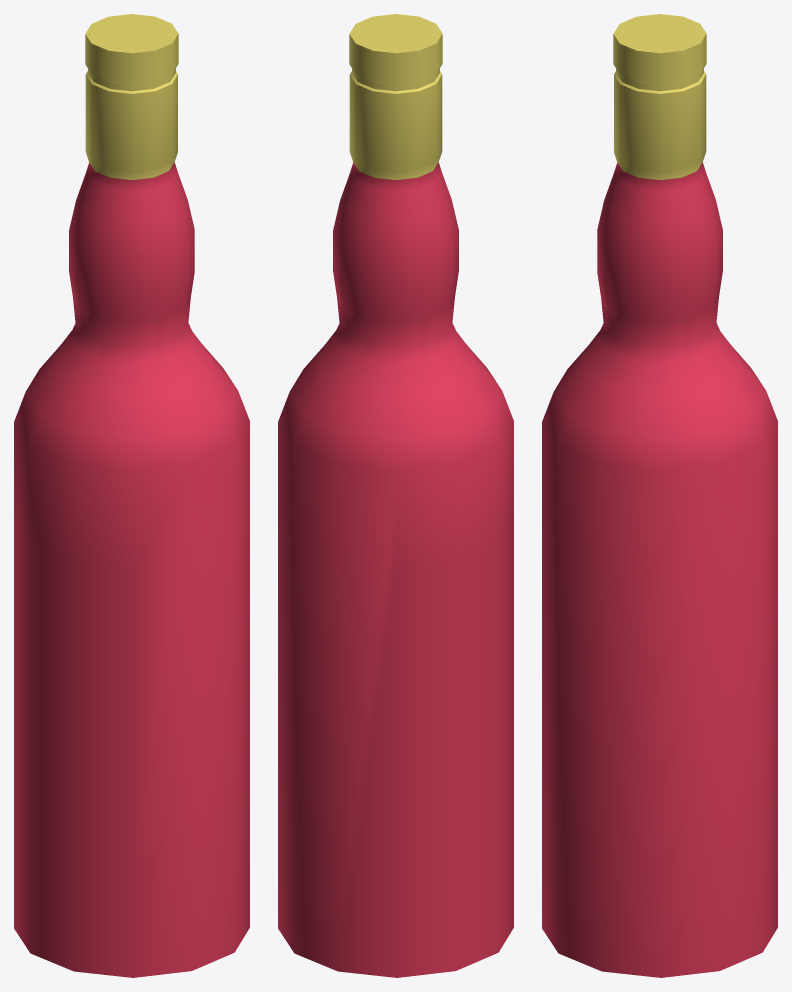
File: Bottle_Whiskey_02.fbx
3 renders of one model, left to right at view 1: azimuth 30°, elevation 25°; view 2: azimuth 150°, elevation 25°; view 3: azimuth 270°, elevation 25°, orthographic.
Visible parts, largest first — view 1: Bottle_Whiskey_02; view 2: Bottle_Whiskey_02; view 3: Bottle_Whiskey_02.
Part boxes in pixels (x1,y1,x2,y2): Bottle_Whiskey_02: [14, 14, 249, 977]; Bottle_Whiskey_02: [278, 14, 513, 977]; Bottle_Whiskey_02: [542, 14, 777, 977].
Size of the model in its own units: 7.64 by 31.97 by 7.64.
